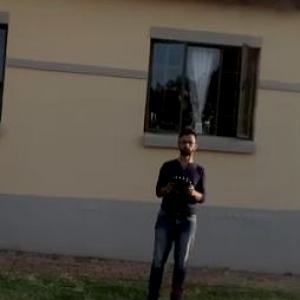follow: (140, 124, 210, 299)
